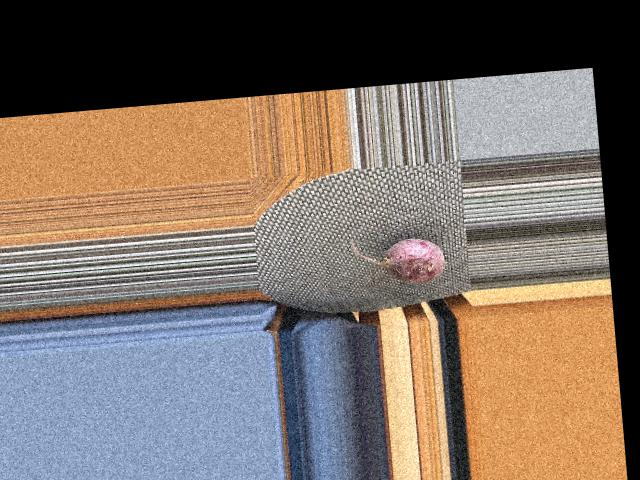beet: (350, 230, 446, 289)
